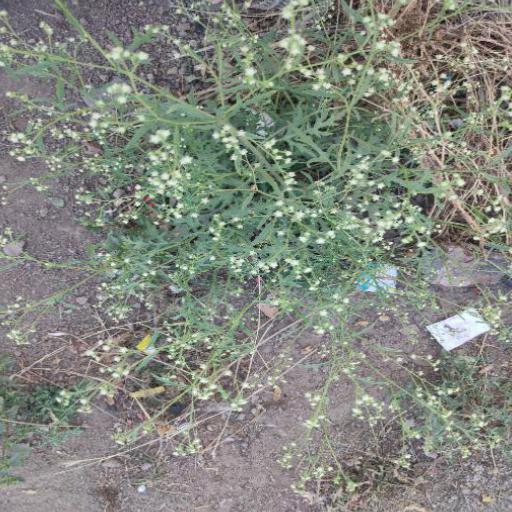weed: (92, 1, 512, 301)
